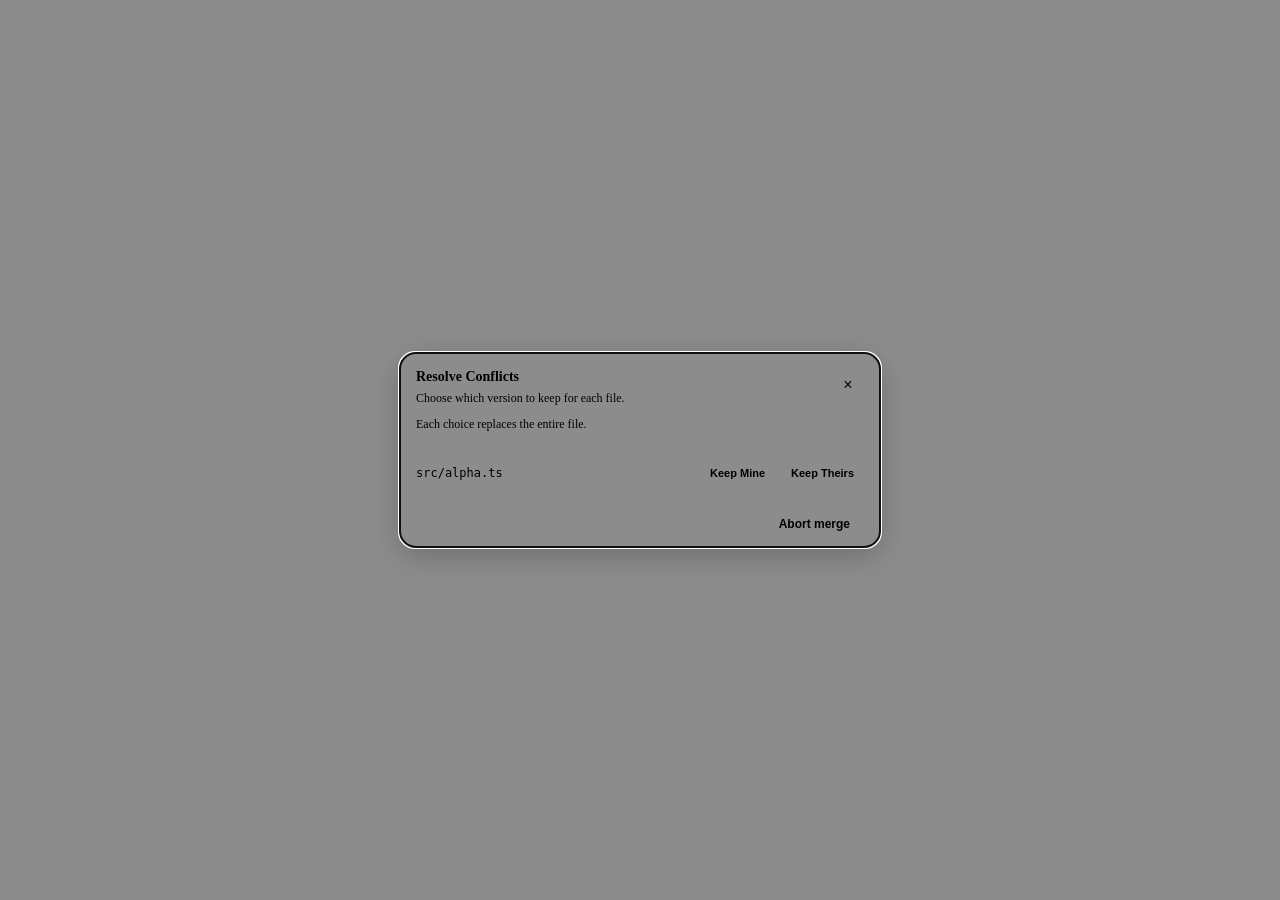
Scenario: ConflictResolver › keeps a failed resolution unresolved and lets the user retry
Click the button "Keep Mine" at (738, 473), box [700,463,775,483]
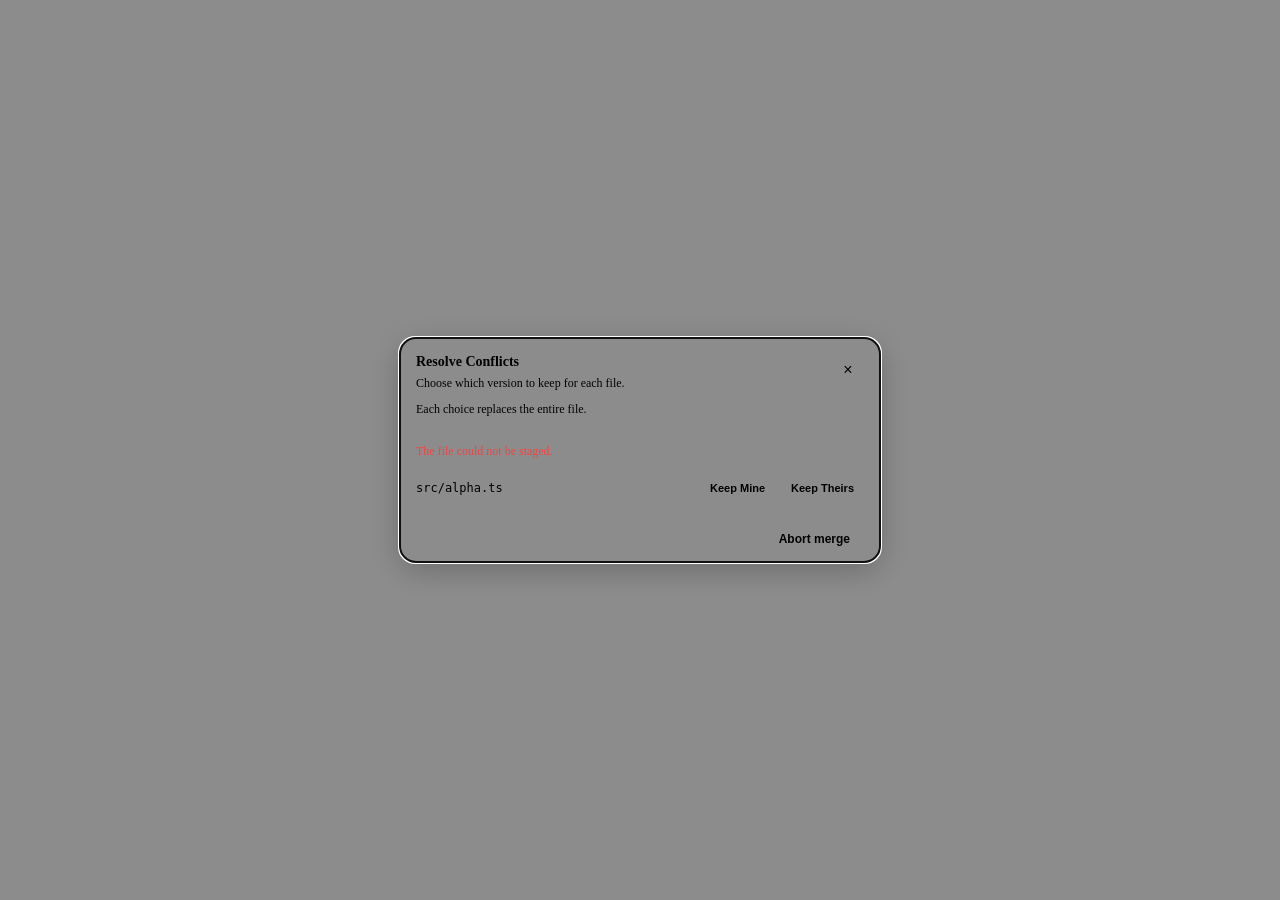
Expected: the text "Resolved" is not shown
Expected: the message shows "could not be staged", [416,444,553,458]
Click the button "Keep Theirs" at (822, 488), box [781,478,864,498]
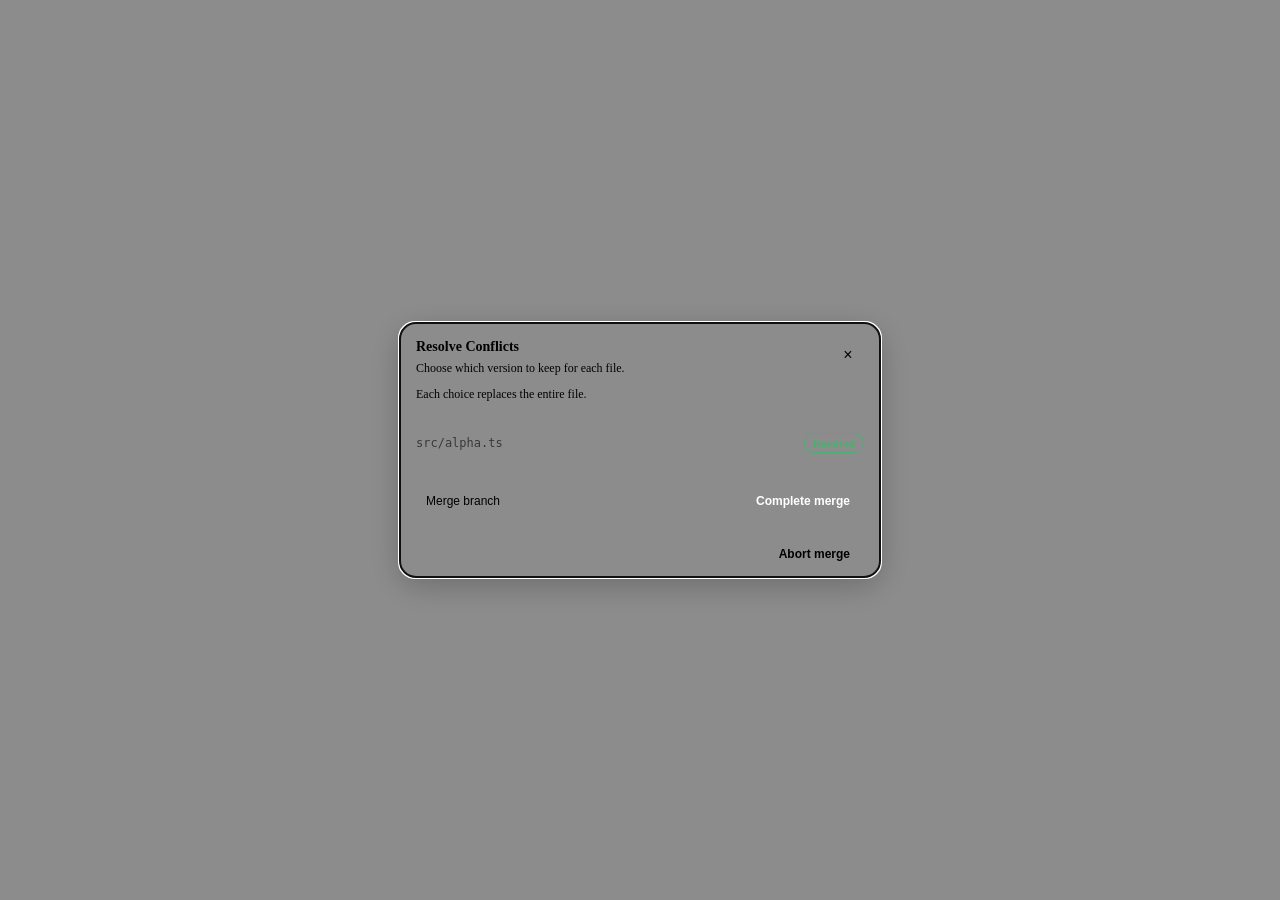
Expected: the text "Resolved" is shown, [804,433,864,453]
Expected: the message "The file could not be staged." is gone
